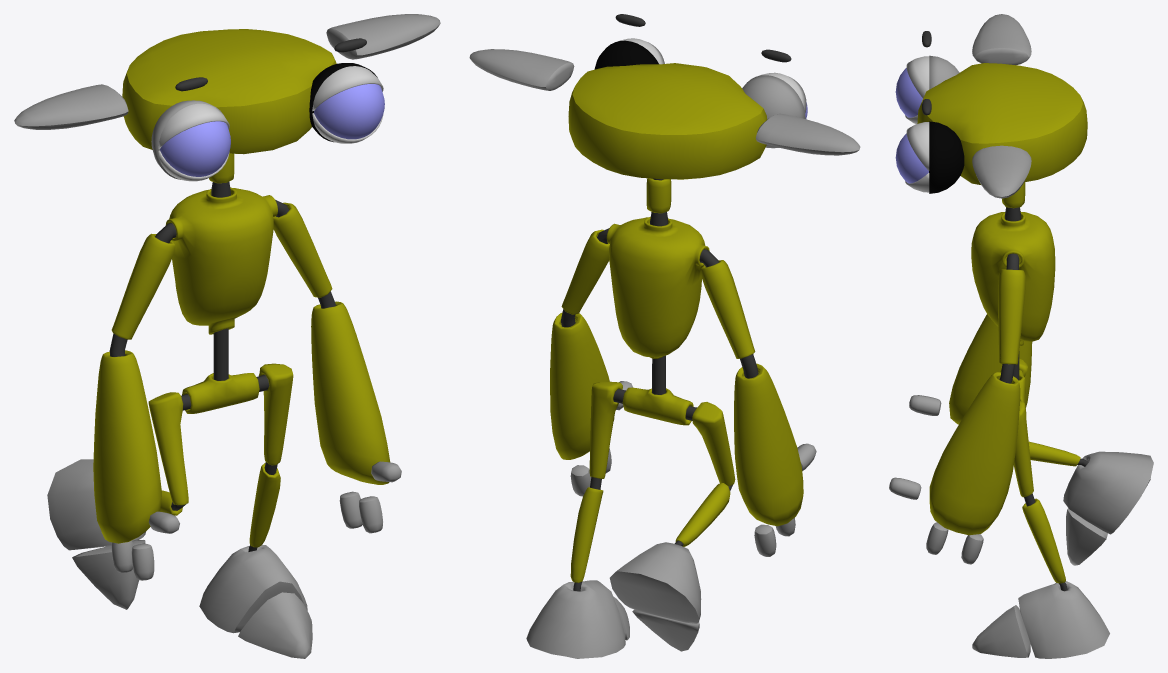
Rendered from walk3.obj.
3 views of the same model, side by side, from view 1: azimuth 30°, elevation 25°; view 2: azimuth 150°, elevation 25°; view 3: azimuth 270°, elevation 25° (orthographic). The views are drawn at different scales.
Parts seen in each view (by area): view 1: Mesh polySurface50, Mesh polySurface41, Mesh polySurface37, Mesh polySurface18, Mesh polySurface48, Mesh polySurface10, Mesh polySurface26, Mesh polySurface8, Mesh polySurface47, Mesh polySurface38, Mesh polySurface22, Mesh polySurface6 (+15 smaller); view 2: Mesh polySurface41, Mesh polySurface50, Mesh polySurface48, Mesh polySurface37, Mesh polySurface18, Mesh polySurface10, Mesh polySurface25, Mesh polySurface26, Mesh polySurface38, Mesh polySurface47, Mesh polySurface44, Mesh polySurface12 (+9 smaller); view 3: Mesh polySurface18, Mesh polySurface50, Mesh polySurface41, Mesh polySurface26, Mesh polySurface10, Mesh polySurface48, Mesh polySurface37, Mesh polySurface44, Mesh polySurface51, Mesh polySurface4, Mesh polySurface8, Mesh polySurface47 (+14 smaller).
Part boxes in pixels (bbox=[...]): Mesh polySurface50: bbox=[126, 29, 334, 107]; Mesh polySurface41: bbox=[165, 187, 277, 334]; Mesh polySurface37: bbox=[93, 350, 161, 543]; Mesh polySurface18: bbox=[311, 301, 390, 484]; Mesh polySurface48: bbox=[122, 55, 336, 154]; Mesh polySurface10: bbox=[199, 544, 307, 632]; Mesh polySurface26: bbox=[47, 459, 145, 550]; Mesh polySurface8: bbox=[238, 592, 312, 658]; Mesh polySurface47: bbox=[14, 84, 128, 126]; Mesh polySurface38: bbox=[111, 233, 175, 339]; Mesh polySurface22: bbox=[160, 121, 230, 176]; Mesh polySurface6: bbox=[314, 84, 384, 139]; Mesh polySurface41: bbox=[606, 217, 709, 358]; Mesh polySurface50: bbox=[572, 63, 763, 134]; Mesh polySurface48: bbox=[568, 87, 767, 179]; Mesh polySurface37: bbox=[734, 363, 803, 526]; Mesh polySurface18: bbox=[550, 312, 614, 459]; Mesh polySurface10: bbox=[526, 580, 625, 658]; Mesh polySurface25: bbox=[609, 571, 698, 623]; Mesh polySurface26: bbox=[611, 542, 701, 621]; Mesh polySurface38: bbox=[700, 260, 755, 358]; Mesh polySurface47: bbox=[756, 113, 860, 152]; Mesh polySurface44: bbox=[469, 49, 571, 86]; Mesh polySurface12: bbox=[589, 381, 622, 478]; Mesh polySurface18: bbox=[929, 372, 1020, 535]; Mesh polySurface50: bbox=[921, 63, 1082, 143]; Mesh polySurface41: bbox=[971, 211, 1055, 345]; Mesh polySurface26: bbox=[1063, 451, 1153, 534]; Mesh polySurface10: bbox=[1018, 581, 1109, 658]; Mesh polySurface48: bbox=[917, 97, 1087, 184]; Mesh polySurface37: bbox=[949, 314, 1032, 424]; Mesh polySurface44: bbox=[972, 145, 1031, 196]; Mesh polySurface51: bbox=[998, 269, 1025, 364]; Mesh polySurface4: bbox=[929, 121, 964, 193]; Mesh polySurface8: bbox=[972, 606, 1028, 657]; Mesh polySurface47: bbox=[972, 14, 1031, 57].
Bounding box in the file's own units: 10.05 × 14.32 × 6.2.
